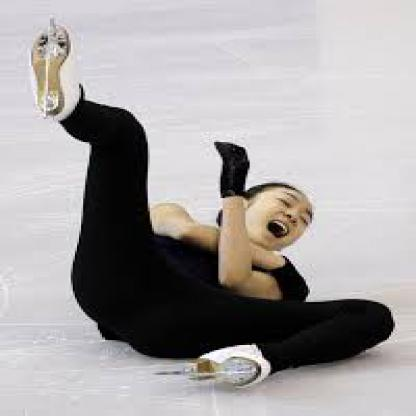Fall_Down: (22, 22, 404, 394)
